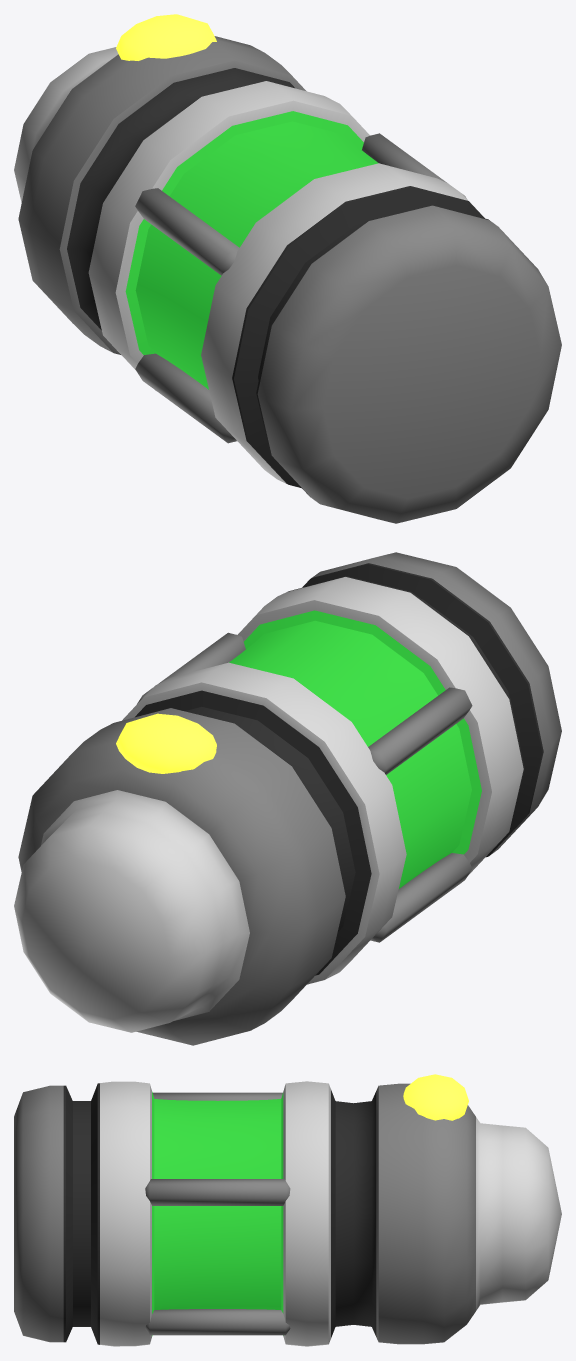
Rendered from shot_rail_canister.glb.
3 renders of one model, top to bottom at view 1: azimuth 30°, elevation 25°; view 2: azimuth 150°, elevation 25°; view 3: azimuth 270°, elevation 25°, orthographic. The views are drawn at different scales.
Parts seen in each view (by area): view 1: rc_body0, rc_body3, rc_body6, rc_body4, rc_body2, rc_body1, rc_body5, rc_bar.001, rc_lamp, rc_body7, rc_bar.002, rc_bar; view 2: rc_body7, rc_body6, rc_body3, rc_body2, rc_body4, rc_body5, rc_body1, rc_body0, rc_lamp, rc_bar.001, rc_bar.002, rc_bar; view 3: rc_body3, rc_body6, rc_body2, rc_body7, rc_body4, rc_body0, rc_body5, rc_body1, rc_bar, rc_bar.003, rc_lamp, rc_bar.001.
Part boxes in pixels (<box>): rc_body0: <box>257,205,561,523</box>; rc_body3: <box>125,111,378,389</box>; rc_body6: <box>18,36,306,354</box>; rc_body4: <box>88,81,369,390</box>; rc_body2: <box>201,163,480,483</box>; rc_body1: <box>232,186,489,497</box>; rc_body5: <box>67,68,294,330</box>; rc_bar.001: <box>135,188,239,275</box>; rc_lamp: <box>116,14,216,60</box>; rc_body7: <box>14,47,118,202</box>; rc_bar.002: <box>135,353,236,443</box>; rc_bar: <box>362,133,466,198</box>; rc_body7: <box>14,790,249,1032</box>; rc_body6: <box>18,708,345,1045</box>; rc_body3: <box>229,610,481,888</box>; rc_body2: <box>237,577,523,876</box>; rc_body4: <box>122,662,406,984</box>; rc_body5: <box>135,690,371,975</box>; rc_body1: <box>288,563,543,857</box>; rc_body0: <box>312,552,561,854</box>; rc_lamp: <box>116,713,216,773</box>; rc_bar.001: <box>368,687,472,774</box>; rc_bar.002: <box>370,853,472,942</box>; rc_bar: <box>137,632,245,703</box>; rc_body3: <box>152,1091,283,1336</box>; rc_body6: <box>376,1083,475,1344</box>; rc_body2: <box>100,1081,151,1346</box>; rc_body7: <box>476,1117,561,1310</box>; rc_body4: <box>283,1081,330,1346</box>; rc_body0: <box>14,1085,63,1342</box>; rc_body5: <box>331,1090,376,1337</box>; rc_body1: <box>63,1083,99,1344</box>; rc_bar: <box>145,1179,290,1205</box>; rc_bar.003: <box>145,1309,290,1335</box>; rc_lamp: <box>403,1074,468,1120</box>; rc_bar.001: <box>152,1092,282,1100</box>.
Size of the model in its own units: 5.99 by 6.17 by 12.1.
